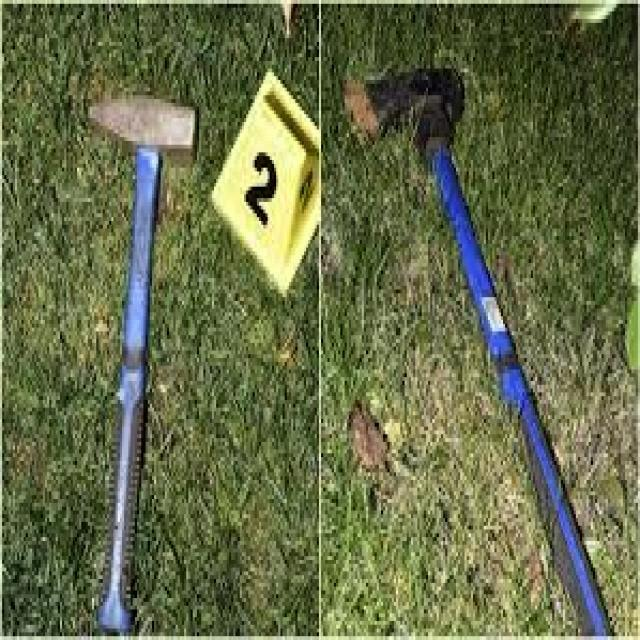hammer: (70, 84, 206, 640)
